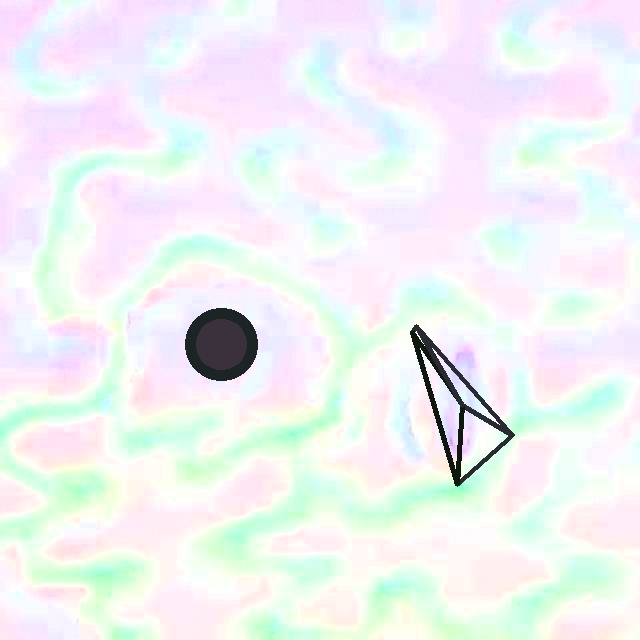close: (185, 307, 257, 380)
open: (411, 324, 513, 486)
